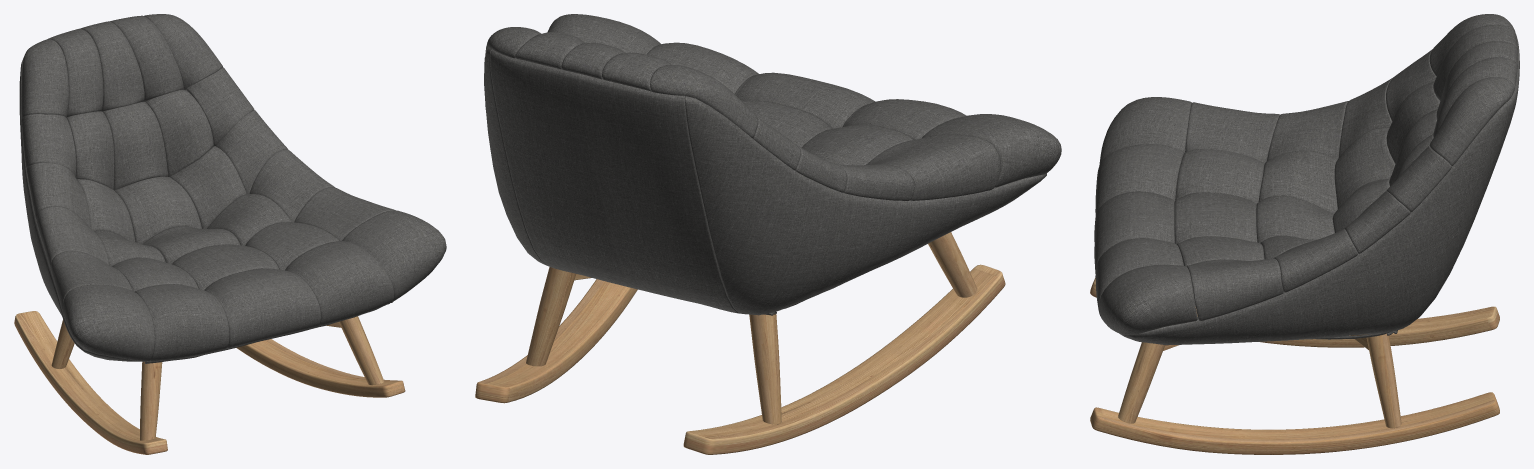
The model's file is kolton_rocking_chair_marl_grey.glb.
The picture shows the model from 3 angles, left to right: view 1: azimuth 30°, elevation 25°; view 2: azimuth 150°, elevation 25°; view 3: azimuth 270°, elevation 25°; orthographic projection. The views are drawn at different scales.
Parts seen in each view (by area): view 1: Kolton_Rocking_Chair; view 2: Kolton_Rocking_Chair; view 3: Kolton_Rocking_Chair.
Part boxes in pixels (box(x1,y1,x2,y2)): Kolton_Rocking_Chair: box(14, 14, 446, 454); Kolton_Rocking_Chair: box(475, 14, 1061, 454); Kolton_Rocking_Chair: box(1090, 14, 1519, 454).
Size of what is drawn, in the model's own units: 1.02 by 0.7928 by 0.8896.
Materials: 2 (2 with a texture image).
